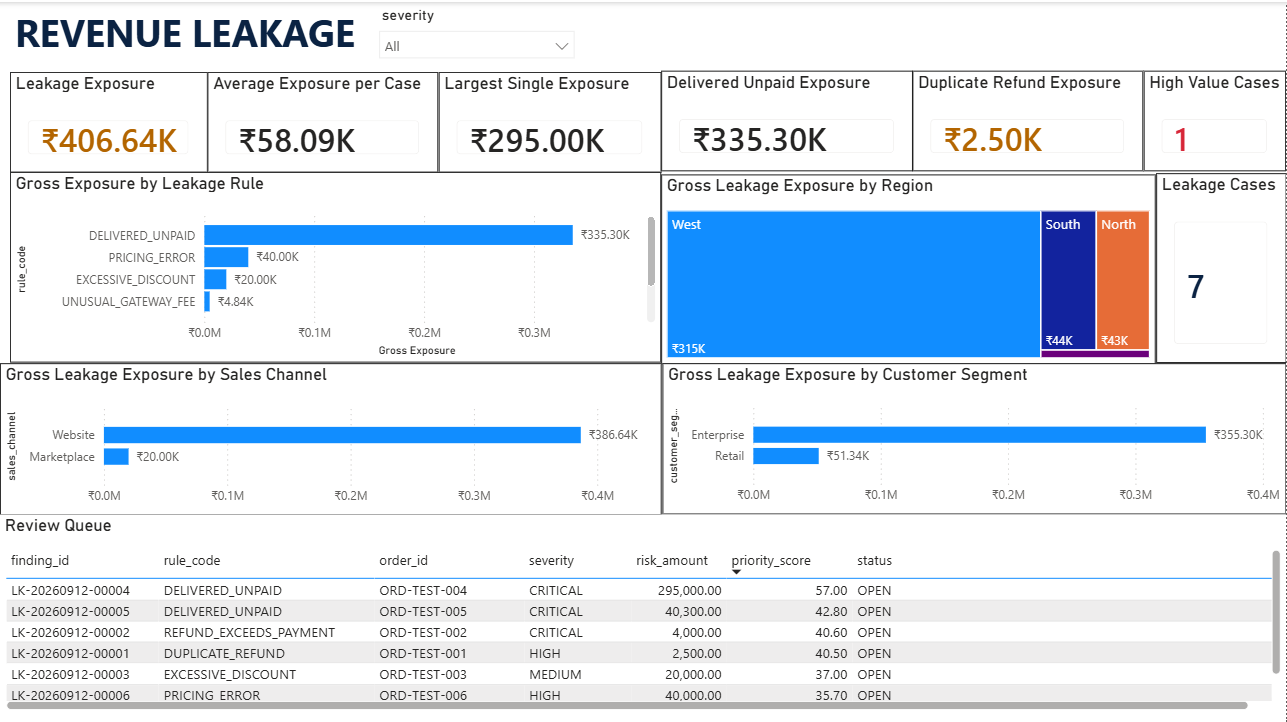

Layout of this report page (visuals, bound fields, positions):
{"tool":"powerbi","page":{"name":"Revenue Leakage","canvas":[1280,720],"ordinal":2},"visuals":[{"type":"textbox","box":[10,0,1270.4,68.9],"z":0},{"type":"cardVisual","title":"Leakage Exposure","fields":{"Data":["rpt_fact_findings.Leakage Exposure"]},"box":[10,69.8,196.8,100.2],"z":1000},{"type":"cardVisual","title":"Leakage Cases","fields":{"Data":["rpt_fact_findings.Leakage Cases"]},"box":[1150.7,170.5,129.7,188.6],"z":2000},{"type":"cardVisual","title":"Average Exposure per Case","fields":{"Data":["rpt_fact_findings.Average Exposure per Case"]},"box":[206.8,69.8,229.7,100.4],"z":3000},{"type":"cardVisual","title":"Largest Single Exposure","fields":{"Data":["rpt_fact_findings.Largest Single Exposure"]},"box":[437.1,69.8,221.4,100.4],"z":4000},{"type":"cardVisual","title":"High Value Cases","fields":{"Data":["rpt_fact_findings.High Value Cases"]},"box":[1138,68.9,141.8,100.4],"z":5000},{"type":"cardVisual","title":"Duplicate Refund Exposure","fields":{"Data":["rpt_fact_findings.Duplicate Refund Exposure"]},"box":[908.6,68.9,229.7,100.4],"z":6000},{"type":"cardVisual","title":"Delivered Unpaid Exposure","fields":{"Data":["rpt_fact_findings.Delivered Unpaid Exposure"]},"box":[658.3,68.9,250.4,100.4],"z":7000},{"type":"clusteredBarChart","title":"Gross Exposure by Leakage Rule","fields":{"Category":["rpt_dim_rule.rule_code"],"Y":["rpt_fact_findings.Gross Exposure"]},"box":[10,169.6,648.4,189.5],"z":8000},{"type":"treemap","title":"Gross Leakage Exposure by Region","fields":{"Group":["rpt_fact_findings.region"],"Values":["rpt_fact_findings.Gross Exposure"]},"box":[658.3,171.4,492.4,188.6],"z":9000},{"type":"clusteredBarChart","title":"Gross Leakage Exposure by Sales Channel","fields":{"Category":["rpt_fact_findings.sales_channel"],"Y":["rpt_fact_findings.Gross Exposure"]},"box":[0,359.1,658.3,151.4],"z":10000},{"type":"clusteredBarChart","title":"Gross Leakage Exposure by Customer Segment","fields":{"Category":["rpt_fact_findings.customer_segment"],"Y":["rpt_fact_findings.Gross Exposure"]},"box":[659.2,360,621.2,150.5],"z":11000},{"type":"tableEx","title":"Review Queue","fields":{"Values":["rpt_fact_findings.finding_id","rpt_fact_findings.rule_code","rpt_fact_findings.order_id","rpt_fact_findings.severity","rpt_fact_findings.risk_amount","rpt_fact_findings.priority_score","rpt_fact_findings.status"]},"box":[0,510.5,1279.5,199.5],"z":12000},{"type":"slicer","title":"Severity","fields":{"Values":["rpt_dim_severity.severity"]},"box":[366.3,0,214.9,68.9],"z":13000}]}

Visuals, with their boxes in screenshot pixels (x1, y1, x2, y2), scaled from the page's 1280x720 canvas onto the 1287x722 screenshot:
textbox: x1=10, y1=0, x2=1286, y2=69
"Leakage Exposure" cardVisual: x1=10, y1=70, x2=208, y2=170
"Leakage Cases" cardVisual: x1=1157, y1=171, x2=1286, y2=360
"Average Exposure per Case" cardVisual: x1=208, y1=70, x2=439, y2=171
"Largest Single Exposure" cardVisual: x1=439, y1=70, x2=662, y2=171
"High Value Cases" cardVisual: x1=1144, y1=69, x2=1286, y2=170
"Duplicate Refund Exposure" cardVisual: x1=914, y1=69, x2=1145, y2=170
"Delivered Unpaid Exposure" cardVisual: x1=662, y1=69, x2=914, y2=170
"Gross Exposure by Leakage Rule" clusteredBarChart: x1=10, y1=170, x2=662, y2=360
"Gross Leakage Exposure by Region" treemap: x1=662, y1=172, x2=1157, y2=361
"Gross Leakage Exposure by Sales Channel" clusteredBarChart: x1=0, y1=360, x2=662, y2=512
"Gross Leakage Exposure by Customer Segment" clusteredBarChart: x1=663, y1=361, x2=1286, y2=512
"Review Queue" tableEx: x1=0, y1=512, x2=1286, y2=712
"Severity" slicer: x1=368, y1=0, x2=584, y2=69
